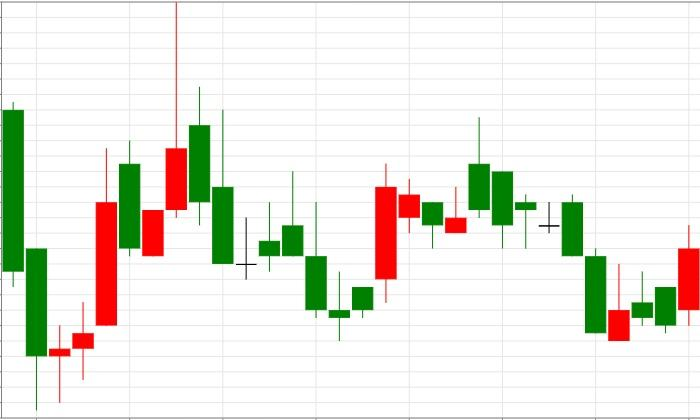inverse_hammer_rise: (469, 116, 630, 342)
